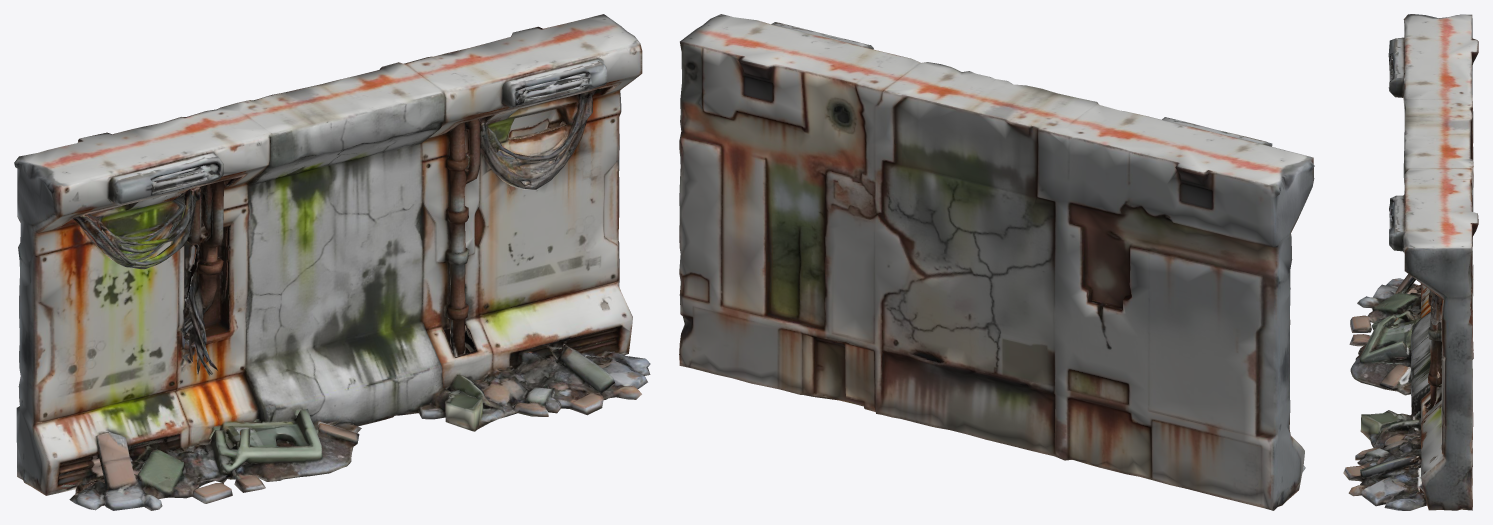
File: old_deteriorated_sci__1203055938_texture.fbx
3 renders of one model, left to right at view 1: azimuth 30°, elevation 25°; view 2: azimuth 150°, elevation 25°; view 3: azimuth 270°, elevation 25°, orthographic. The views are drawn at different scales.
Parts seen in each view (by area): view 1: Mesh1.0; view 2: Mesh1.0; view 3: Mesh1.0.
Boxes of the visible parts, x1,y1,x2,y2 form: Mesh1.0: (14,14,650,510); Mesh1.0: (679,14,1314,510); Mesh1.0: (1343,14,1478,510).
Size of the model in its own units: 3845 by 2000 by 929.
Materials: 1 (1 with a texture image).
